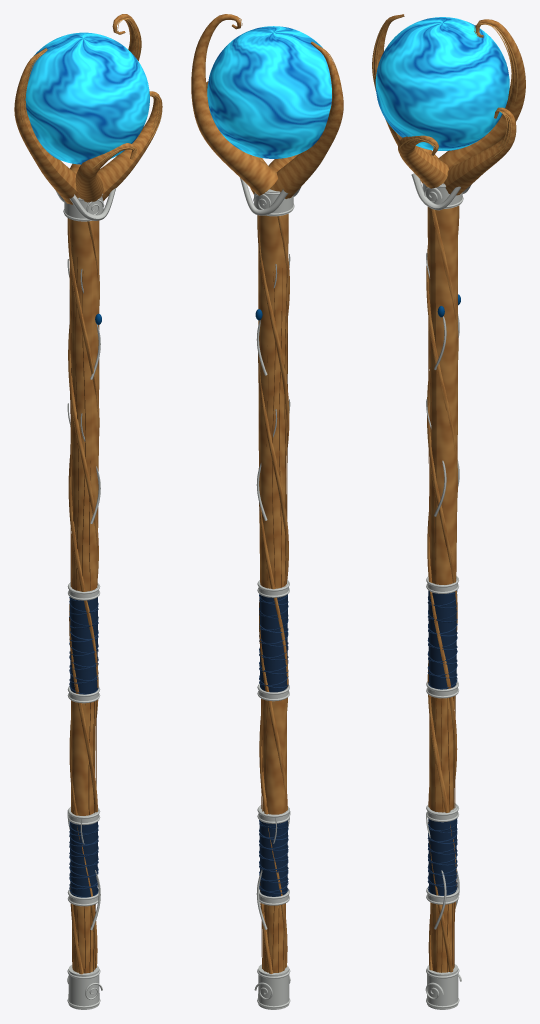
File: water_staff.glb
3 renders of one model, left to right at view 1: azimuth 30°, elevation 25°; view 2: azimuth 150°, elevation 25°; view 3: azimuth 330°, elevation 25°, orthographic.
Parts seen in each view (by area): view 1: water-carved-wood, water-elemental-orb, water-engraved-metal, water-leather-wrap, water-grain-recesses, water-leather-seam, water-raised-wood-fibres; view 2: water-carved-wood, water-elemental-orb, water-engraved-metal, water-leather-wrap, water-grain-recesses, water-leather-seam; view 3: water-carved-wood, water-elemental-orb, water-engraved-metal, water-leather-wrap, water-grain-recesses, water-leather-seam, water-raised-wood-fibres.
Part boxes in pixels (<box>): water-carved-wood: <box>14,14,161,974</box>; water-elemental-orb: <box>25,32,149,164</box>; water-engraved-metal: <box>55,188,115,1009</box>; water-leather-wrap: <box>70,597,97,897</box>; water-grain-recesses: <box>69,245,96,973</box>; water-leather-seam: <box>69,597,98,897</box>; water-raised-wood-fibres: <box>20,18,162,169</box>; water-carved-wood: <box>191,14,343,973</box>; water-elemental-orb: <box>207,26,331,158</box>; water-engraved-metal: <box>240,178,301,1009</box>; water-leather-wrap: <box>259,594,287,896</box>; water-grain-recesses: <box>261,268,288,972</box>; water-leather-seam: <box>259,594,288,893</box>; water-carved-wood: <box>372,14,525,972</box>; water-elemental-orb: <box>375,17,509,150</box>; water-engraved-metal: <box>411,173,470,1009</box>; water-leather-wrap: <box>428,590,456,895</box>; water-grain-recesses: <box>428,254,455,972</box>; water-leather-seam: <box>427,590,457,895</box>; water-raised-wood-fibres: <box>372,15,518,159</box>.
Bounding box in the file's own units: 0.2805 × 1.82 × 0.224.
Materials: 8 (3 with a texture image).
